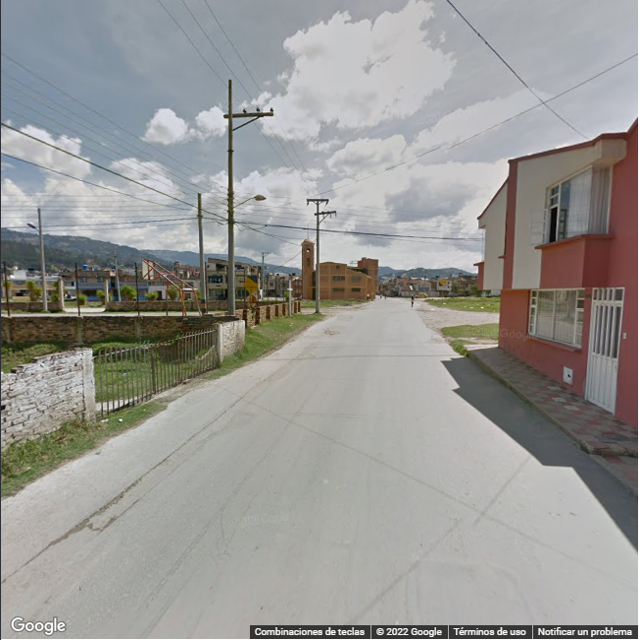D00: (98, 445, 205, 541), (215, 499, 230, 556)
